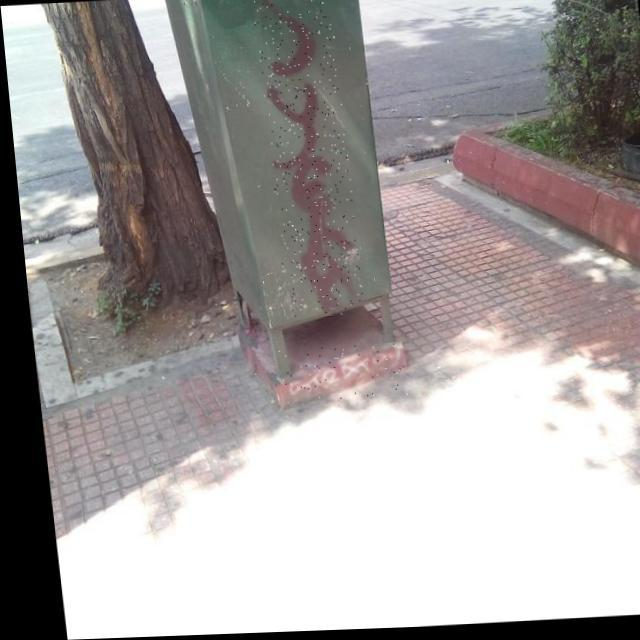-: (250, 0, 360, 320), (270, 344, 400, 404)
